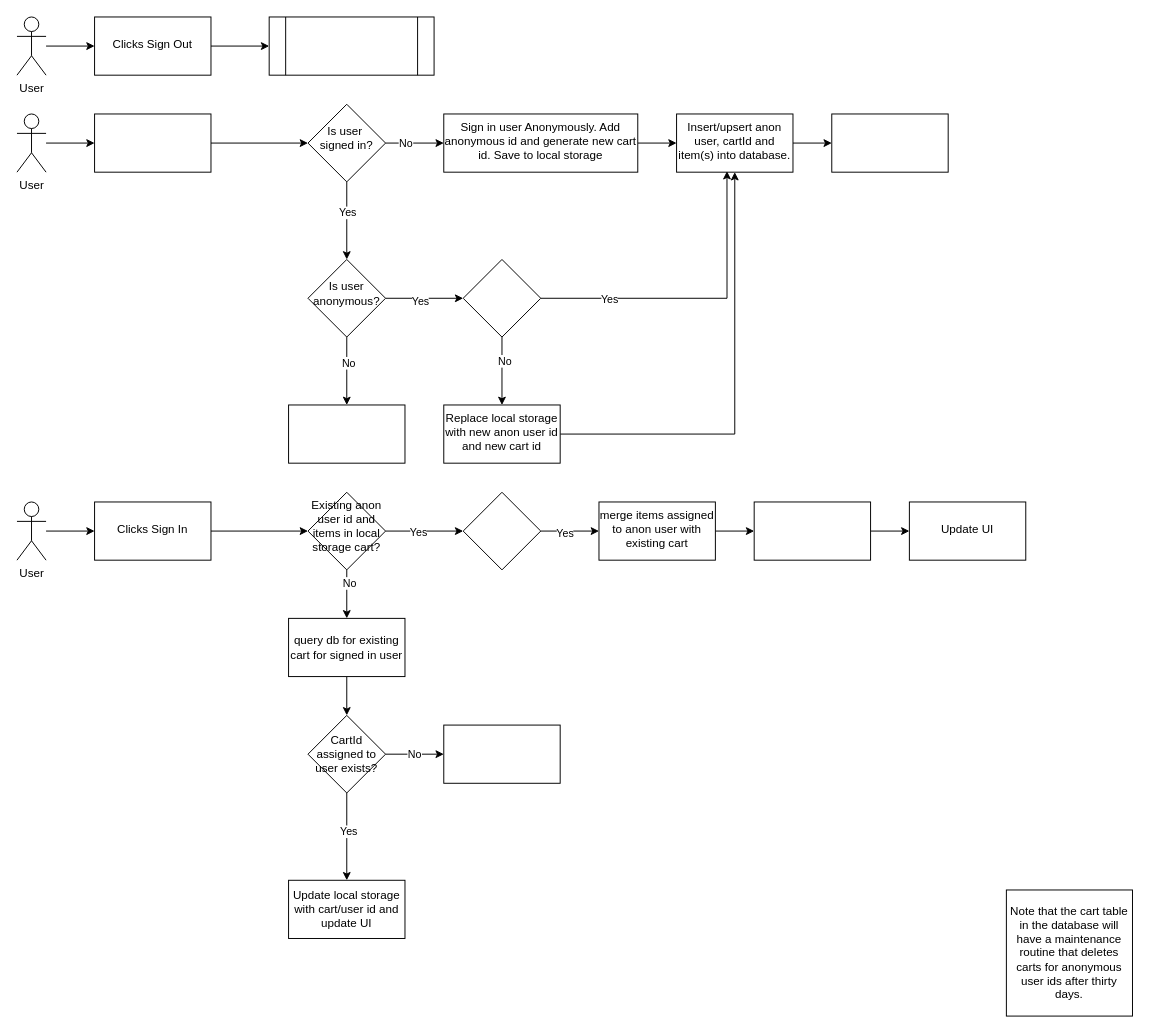
Image size: 1149x1033. Some labels were removed from this diagram. Here are the shapes that lost their labels. From the top down, the centre of each, then its label:
point (351, 45): Remove "kickStartRecordsCart" item from local storage.
point (152, 142): Clicks Add To Cart
point (889, 142): Update UI to reflect cart count.
point (501, 298): Does local storage user id match anon user?
point (346, 433): Add item to cart. See Cicks Sign In flow.
point (501, 530): Signed in user has items in db cart?
point (812, 530): Replace local storage with signed in user and cart id
point (501, 753): Create new cart id, update local storage with user and cart id.
